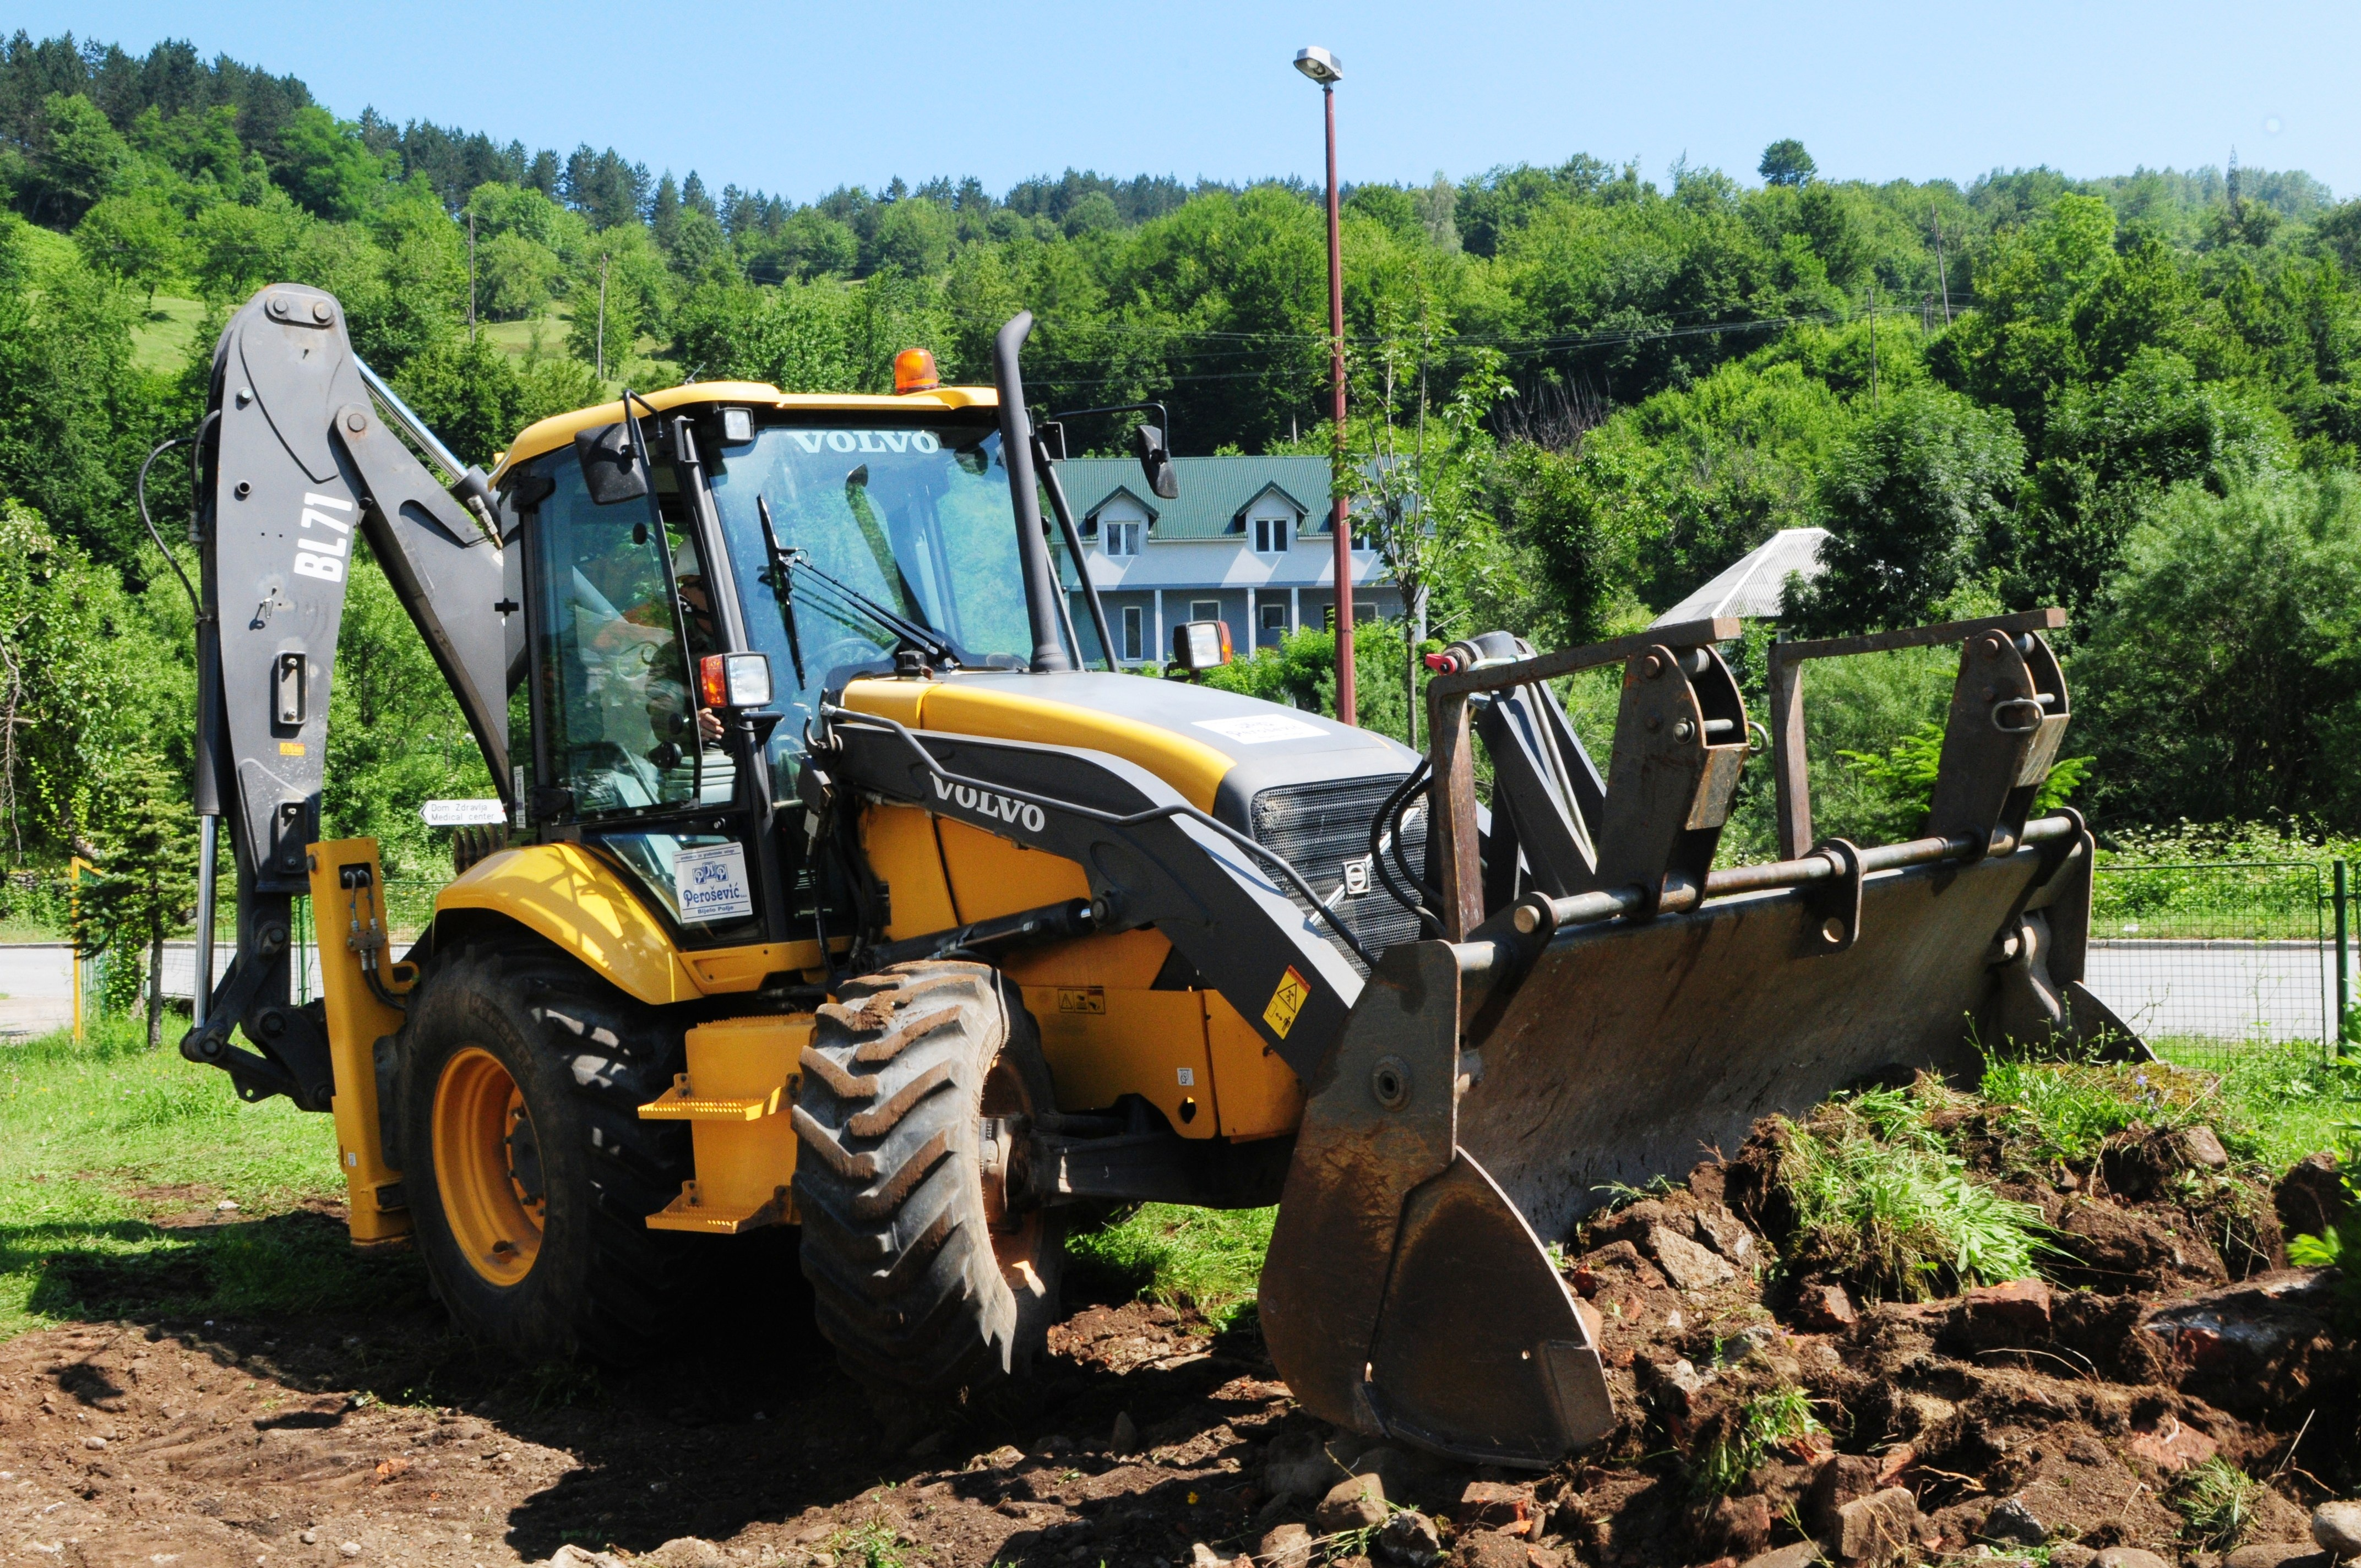bulldozer: (280, 299, 2109, 1463)
excavator: (187, 257, 2156, 1503)
